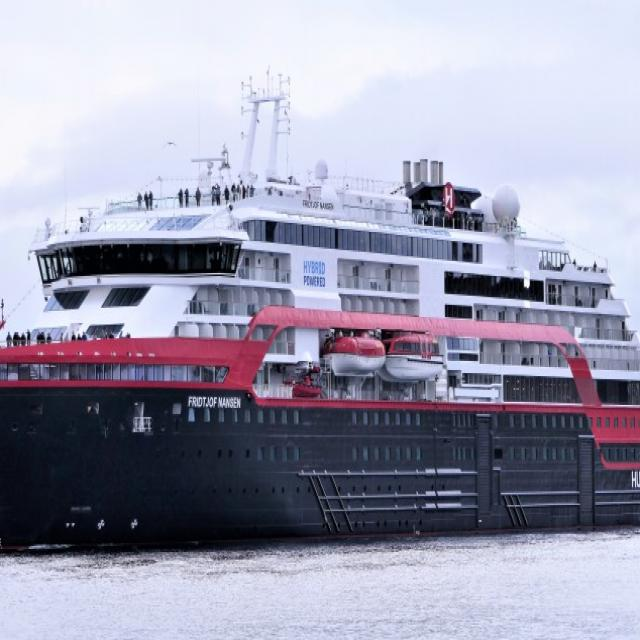cruises: (1, 71, 640, 559)
